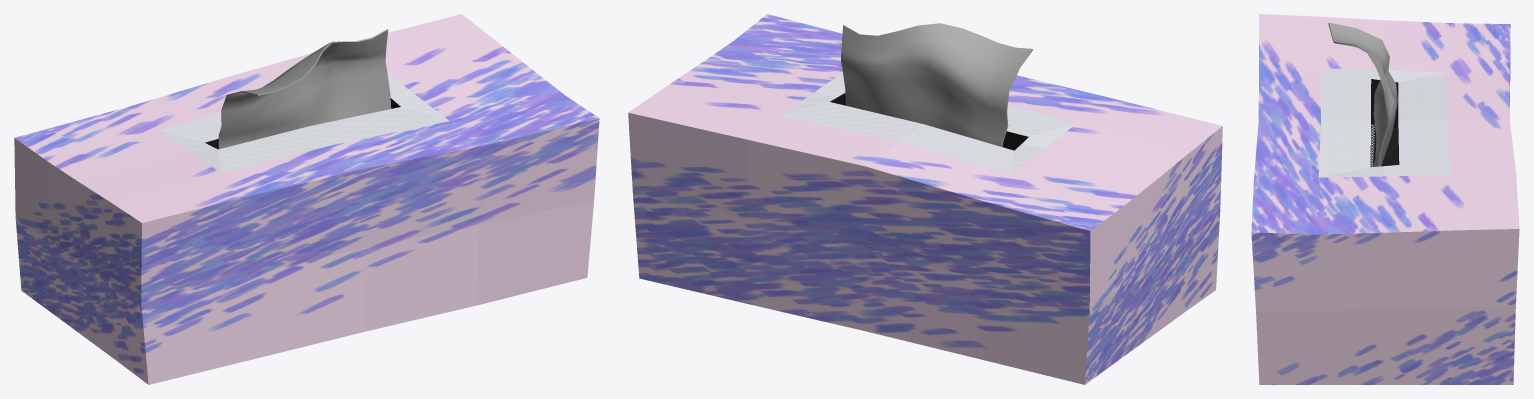
The model's file is TissueBox_V1.fbx.
The picture shows the model from 3 angles, left to right: view 1: azimuth 30°, elevation 25°; view 2: azimuth 150°, elevation 25°; view 3: azimuth 270°, elevation 25°; orthographic projection. The views are drawn at different scales.
Parts seen in each view (by area): view 1: TissueBox; view 2: TissueBox; view 3: TissueBox.
Part boxes in pixels (x1,y1,x2,y2): TissueBox: (14,14,599,384); TissueBox: (628,14,1222,384); TissueBox: (1251,14,1519,384).
Bounding box in the file's own units: 7.8 × 4.02 × 4.1.
